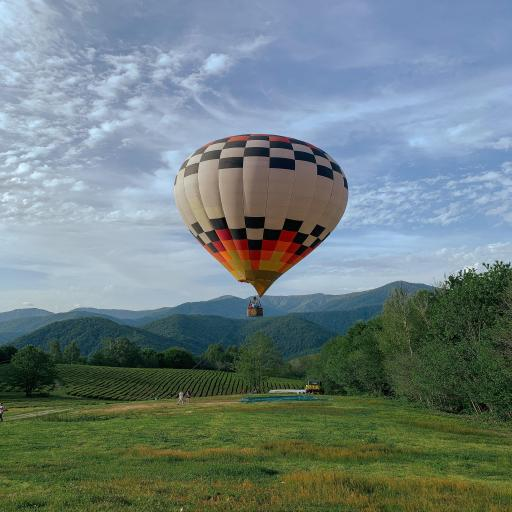hot air ballon: (173, 132, 350, 316)
